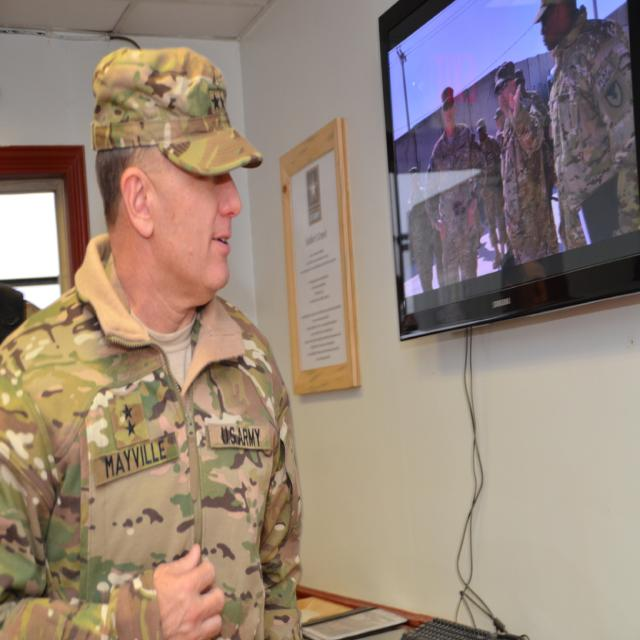Hat: (90, 47, 262, 176), (533, 0, 575, 26), (494, 60, 512, 95), (440, 86, 454, 106)
